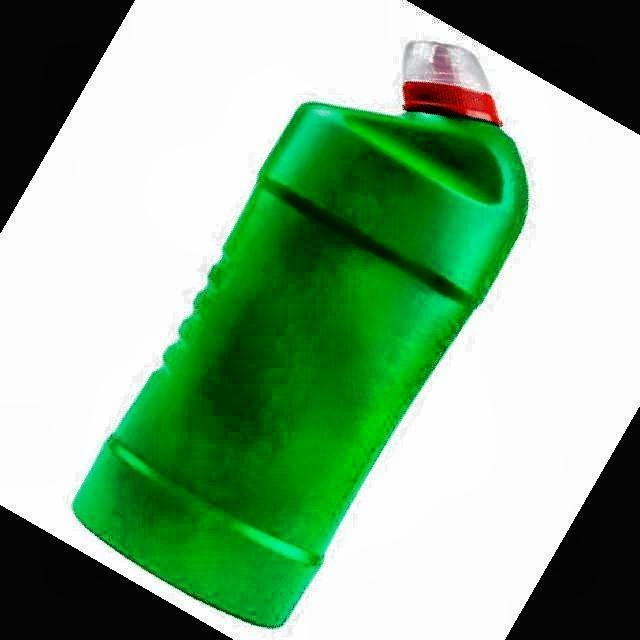plastic: (74, 42, 528, 628)
